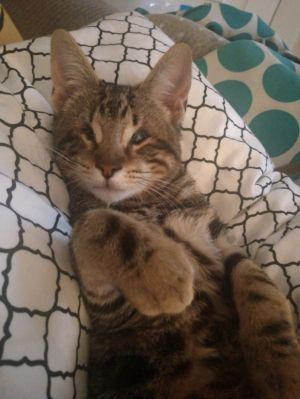bengal: (45, 27, 199, 208)
